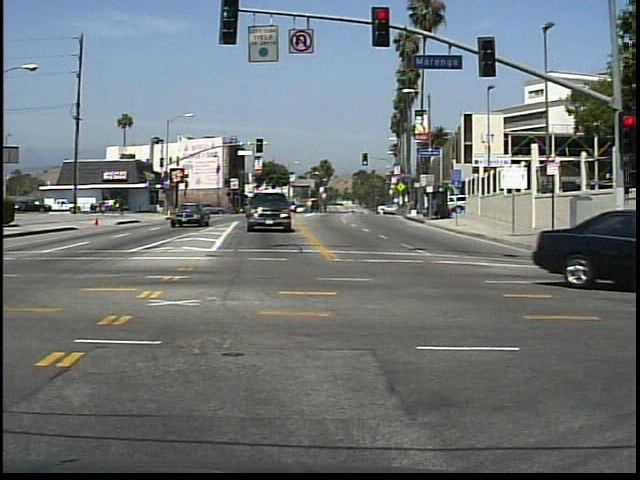person: (115, 192, 131, 221)
